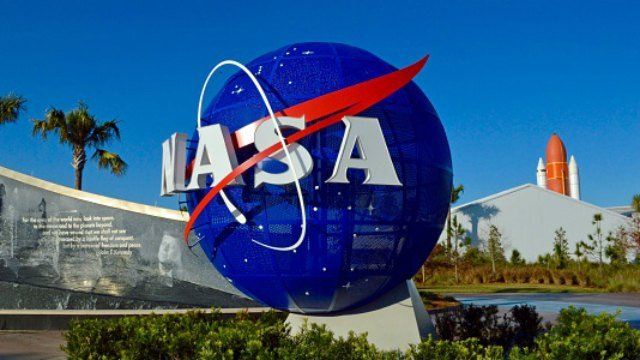NASA: (157, 32, 456, 319)
